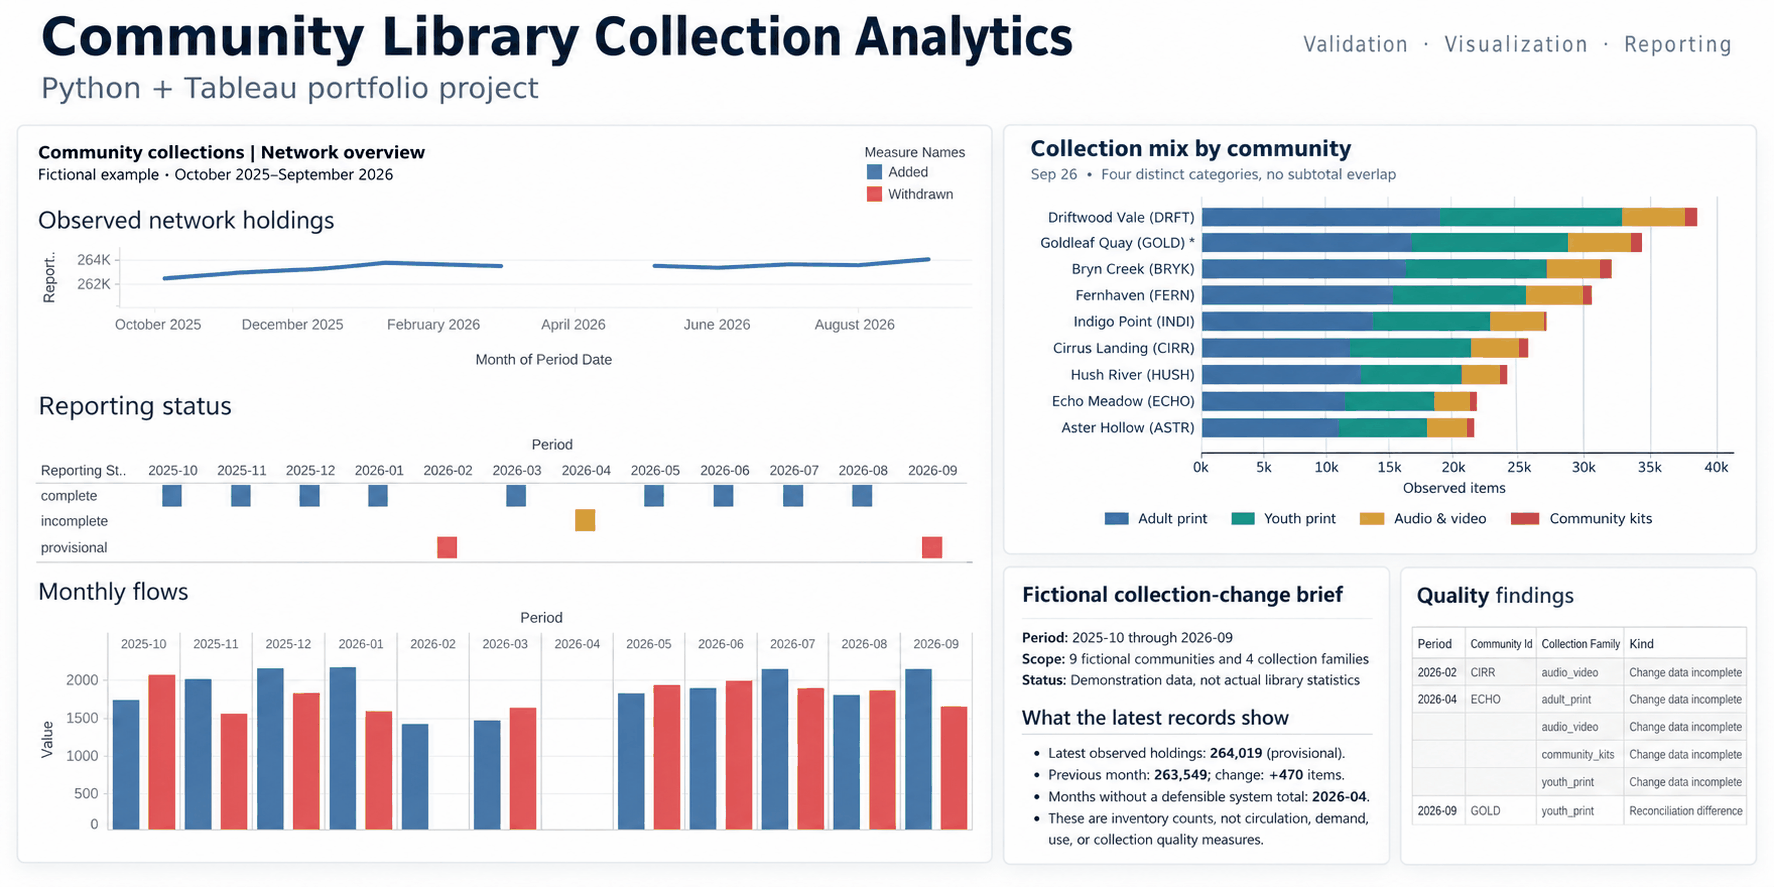

The dashboard page shown, as its layout file describes it:
{"tool":"tableau","page":{"name":"Network overview","canvas":[1100,1400],"ordinal":1},"visuals":[{"type":"text","box":[8,8,924,39]},{"type":"legend","title":"Monthly flows","param":"[federated.00blomv0jv7xbe182vhgz1v68mke].[:Measure Names]","box":[932,8,160,66]},{"type":"dashboard-object","box":[363,39,210,52]},{"type":"worksheet","title":"Observed network holdings","mark":"Automatic","rows":["reported_total"],"cols":["period_date"],"box":[8,47,924,158]},{"type":"worksheet","title":"Reporting status","mark":"Square","rows":["reporting_status"],"cols":["period"],"box":[8,205,924,150]},{"type":"worksheet","title":"Monthly flows","mark":"Bar","cols":["period"],"box":[8,355,924,346]},{"type":"worksheet","title":"Quality findings","mark":"Text","rows":["period","community_id","collection_family","kind"],"box":[8,701,1084,367.9]},{"type":"text","box":[8,1069,1084,323]}]}

Visuals, with their boxes on the page's 1100x1400 design canvas (x1, y1, x2, y2). These are canvas units, not pixel positions in the 1774x887 screenshot, which may show the page scaled, cropped or inside an application window:
text: 8:8:932:47
"Monthly flows" legend: 932:8:1092:74
dashboard-object: 363:39:573:91
"Observed network holdings" worksheet: 8:47:932:205
"Reporting status" worksheet (Square marks): 8:205:932:355
"Monthly flows" worksheet (Bar marks): 8:355:932:701
"Quality findings" worksheet (Text marks): 8:701:1092:1069
text: 8:1069:1092:1392
